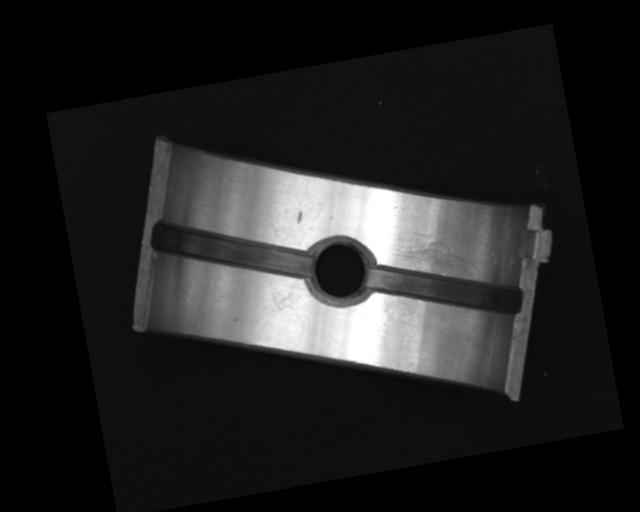bruise: (294, 208, 305, 224)
gap: (150, 196, 313, 302), (366, 245, 525, 339)
hole: (301, 231, 379, 311)
scratch: (390, 230, 485, 288)
